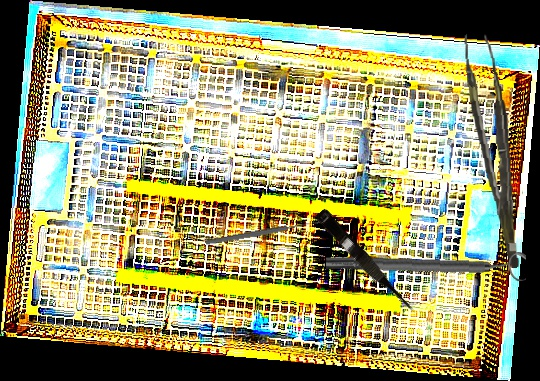Fixation Ring: (325, 244, 527, 285)
Micro Scissor: (312, 207, 420, 320)
Surgical Spoon: (205, 218, 323, 247)
Tissue Forceps: (463, 31, 520, 271)
